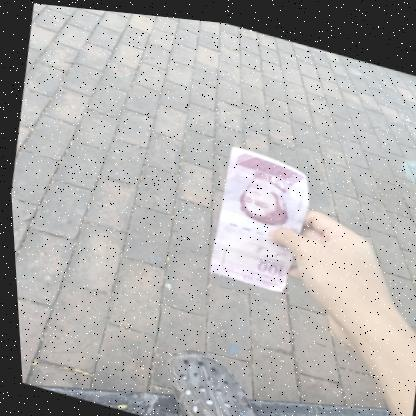one_hundred-front-vef: (198, 136, 317, 293)
